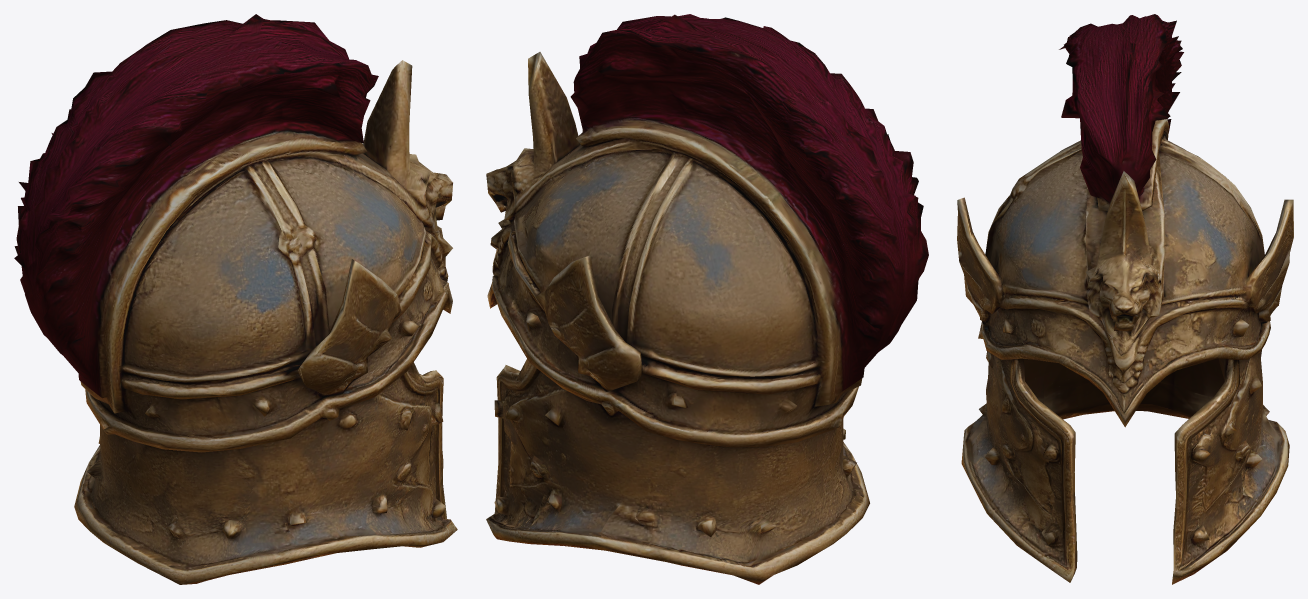
File: model.detail.glb
3 views of the same model, side by side, from view 1: azimuth 30°, elevation 25°; view 2: azimuth 150°, elevation 25°; view 3: azimuth 270°, elevation 25° (orthographic). The views are drawn at different scales.
Parts seen in each view (by area): view 1: tripo_node_90576243-cf3a-45e0-8b7a-830e6c87a6bf; view 2: tripo_node_90576243-cf3a-45e0-8b7a-830e6c87a6bf; view 3: tripo_node_90576243-cf3a-45e0-8b7a-830e6c87a6bf.
Boxes of the visible parts, box(x1,y1,x2,y2) form: tripo_node_90576243-cf3a-45e0-8b7a-830e6c87a6bf: box(14, 14, 457, 584); tripo_node_90576243-cf3a-45e0-8b7a-830e6c87a6bf: box(486, 14, 928, 584); tripo_node_90576243-cf3a-45e0-8b7a-830e6c87a6bf: box(957, 14, 1293, 584).
Size of the model in its own units: 0.2936 by 0.35 by 0.2264.
Materials: 1 (1 with a texture image).
